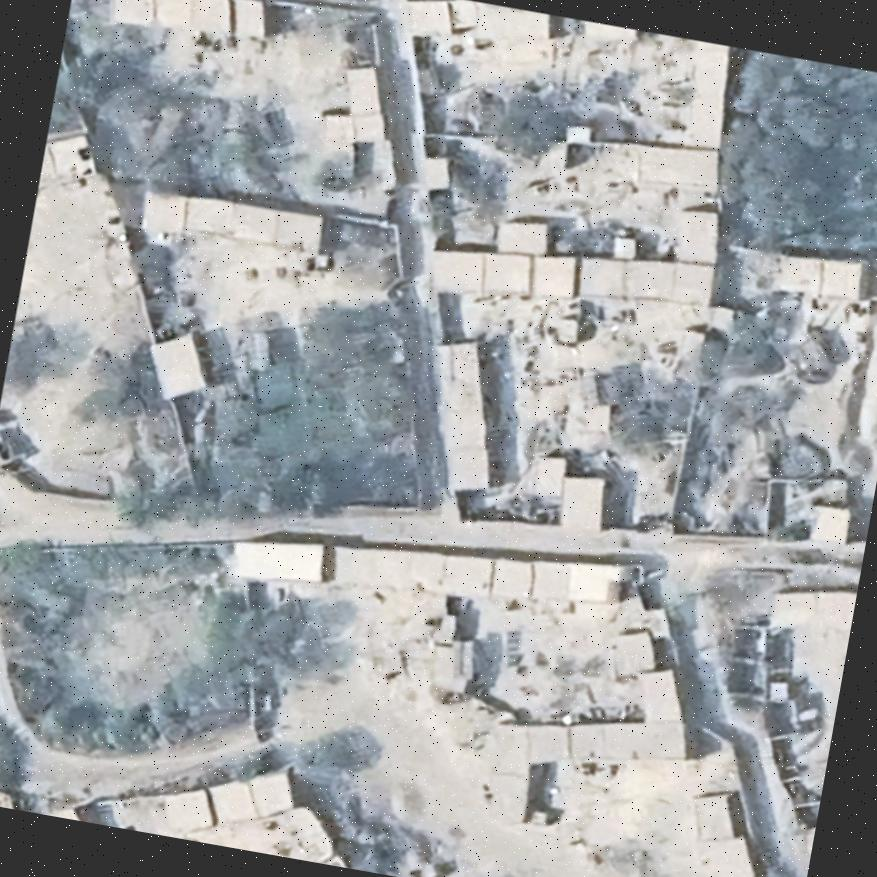Solarpanel: (504, 627, 522, 652)
